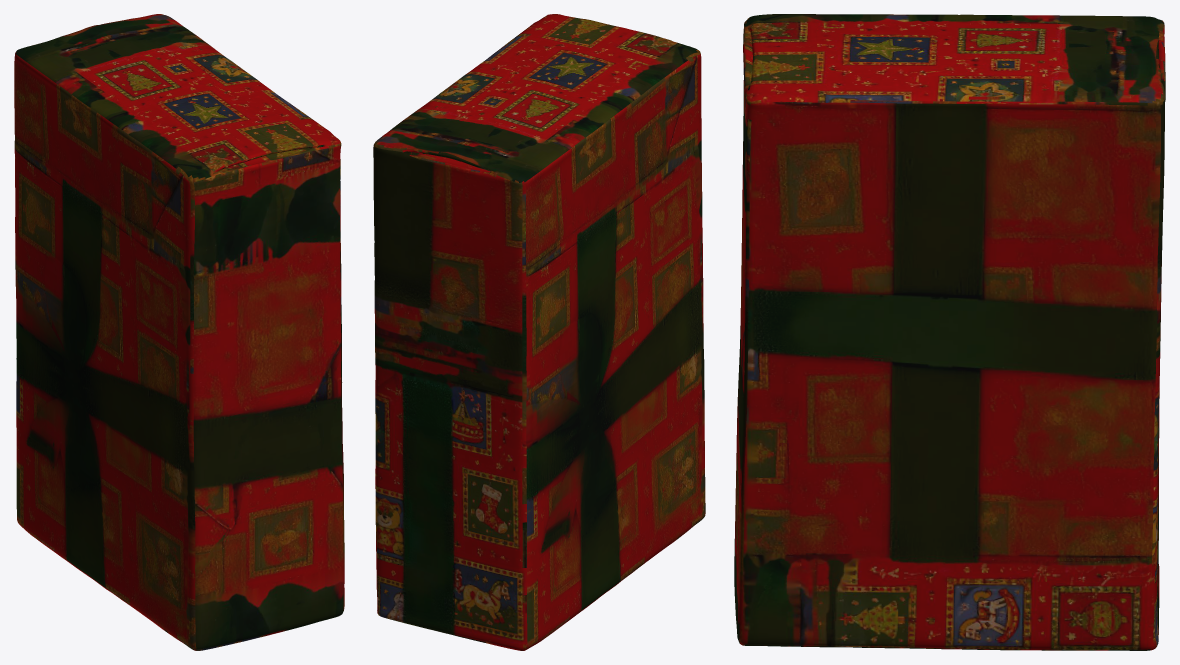
Rendered from Maizena.fbx.
3 renders of one model, left to right at view 1: azimuth 30°, elevation 25°; view 2: azimuth 150°, elevation 25°; view 3: azimuth 270°, elevation 25°, orthographic. The views are drawn at different scales.
Parts seen in each view (by area): view 1: tripo_node_2b9b1f29; view 2: tripo_node_2b9b1f29; view 3: tripo_node_2b9b1f29.
Boxes of the visible parts, left/top/right/bottom form: tripo_node_2b9b1f29: left=14, top=14, right=344, bottom=650; tripo_node_2b9b1f29: left=373, top=14, right=705, bottom=650; tripo_node_2b9b1f29: left=734, top=14, right=1165, bottom=650.
Bounding box in the file's own units: 0.3379 × 0.9953 × 0.692.
